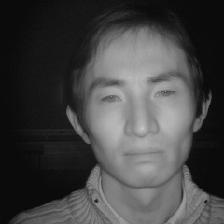sad: (48, 13, 222, 185)
